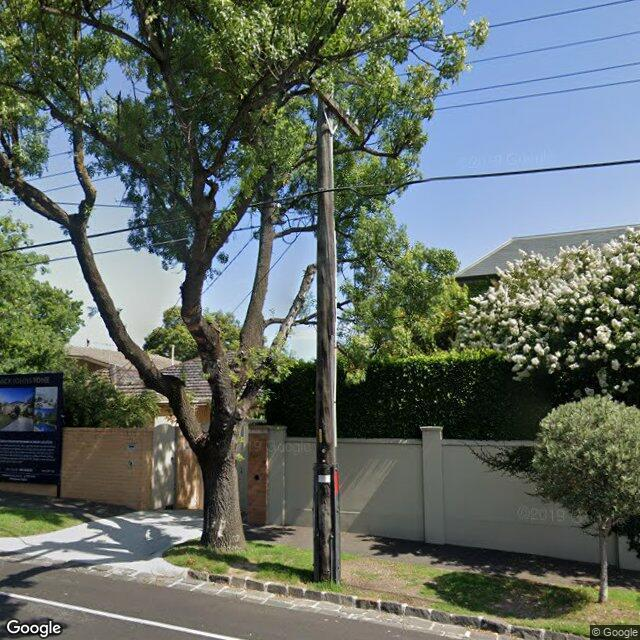crossarm: (309, 76, 360, 137)
timber-pole: (313, 76, 340, 583)
